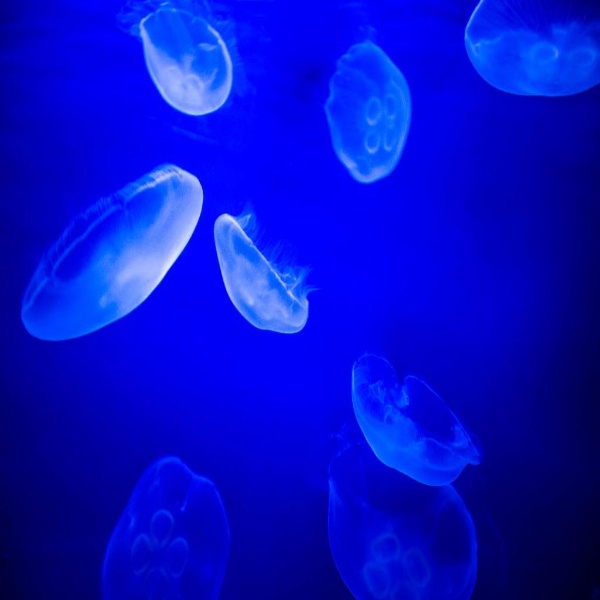Jellyfish: (21, 158, 203, 339), (326, 434, 479, 599), (100, 448, 232, 599), (347, 345, 485, 487), (328, 40, 413, 188), (214, 211, 312, 336), (137, 0, 231, 117)
